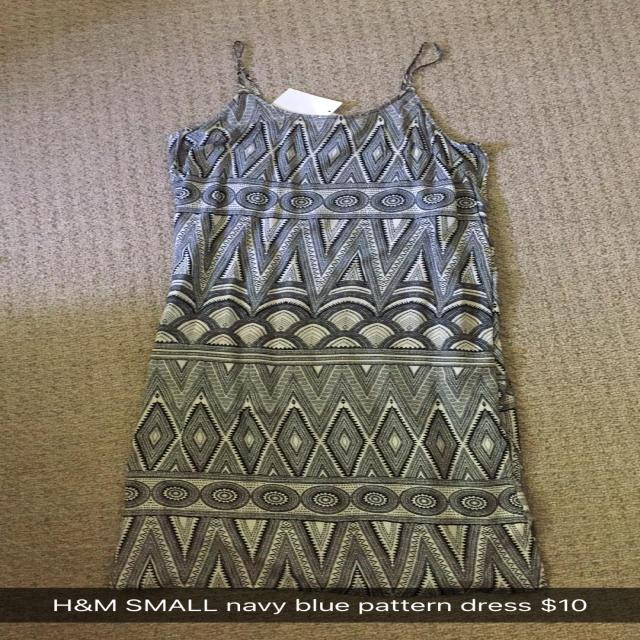Dress: (113, 37, 558, 588)
